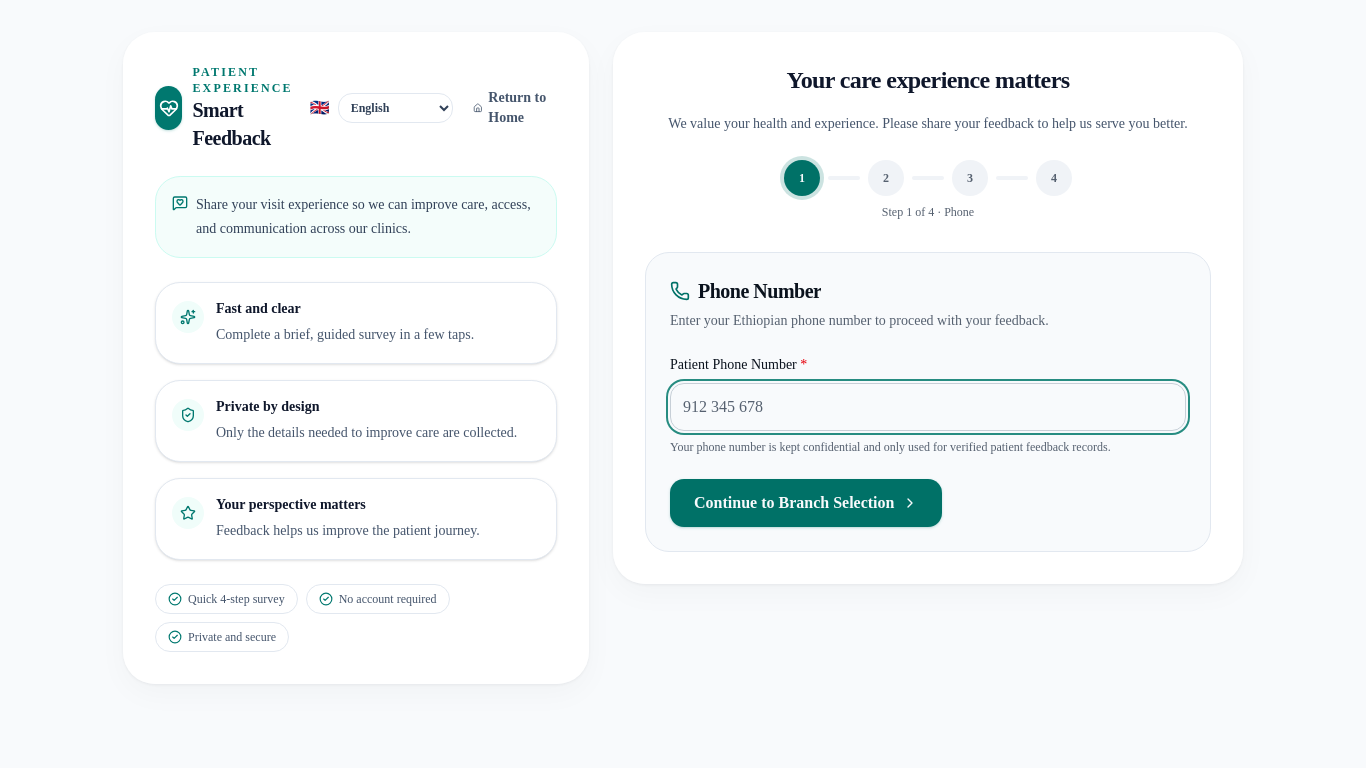
PatientFeedbackForm — loading, error and empty states › shows an error state with retry when branches fail to load
Type "0912345678" into the field labelled "Patient Phone Number *". click: (928, 407)
box: [670,383,1186,431]
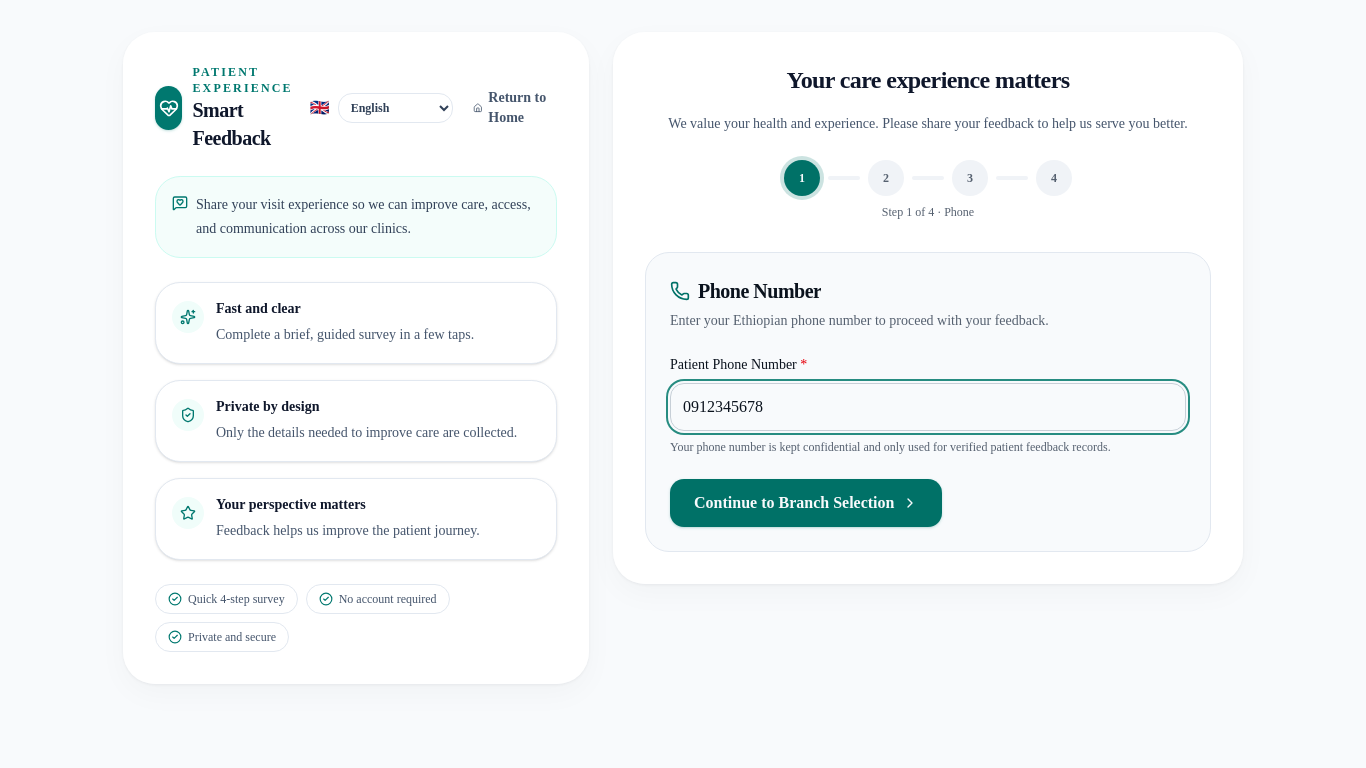
Click the button "Continue to Branch Selection". click: (806, 503)
box: [670,479,942,527]
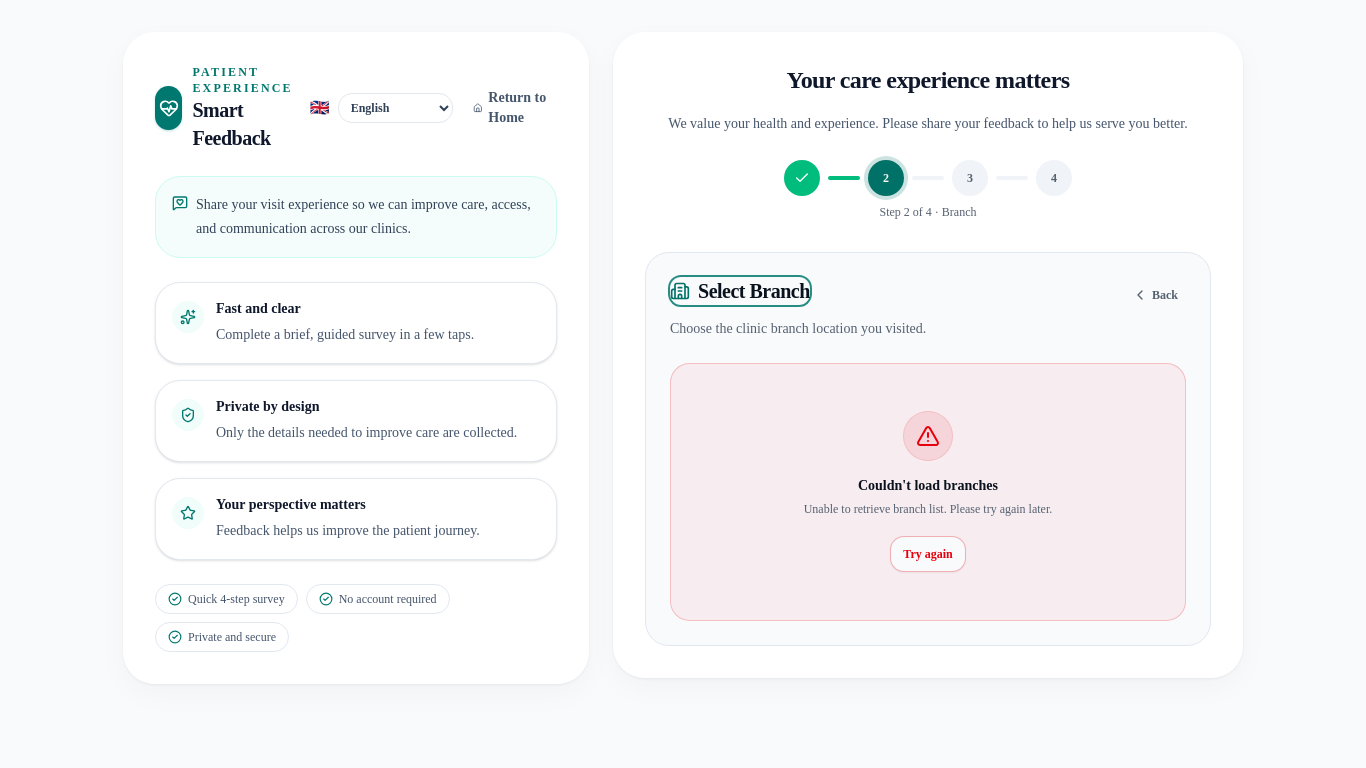
Expected: the heading "Select Branch" is shown, [670,277,810,305]
Expected: the message "Couldn't load branches" is shown, [670,363,1186,620]
Click the button "Try again". click: (928, 554)
box: [890,536,966,572]
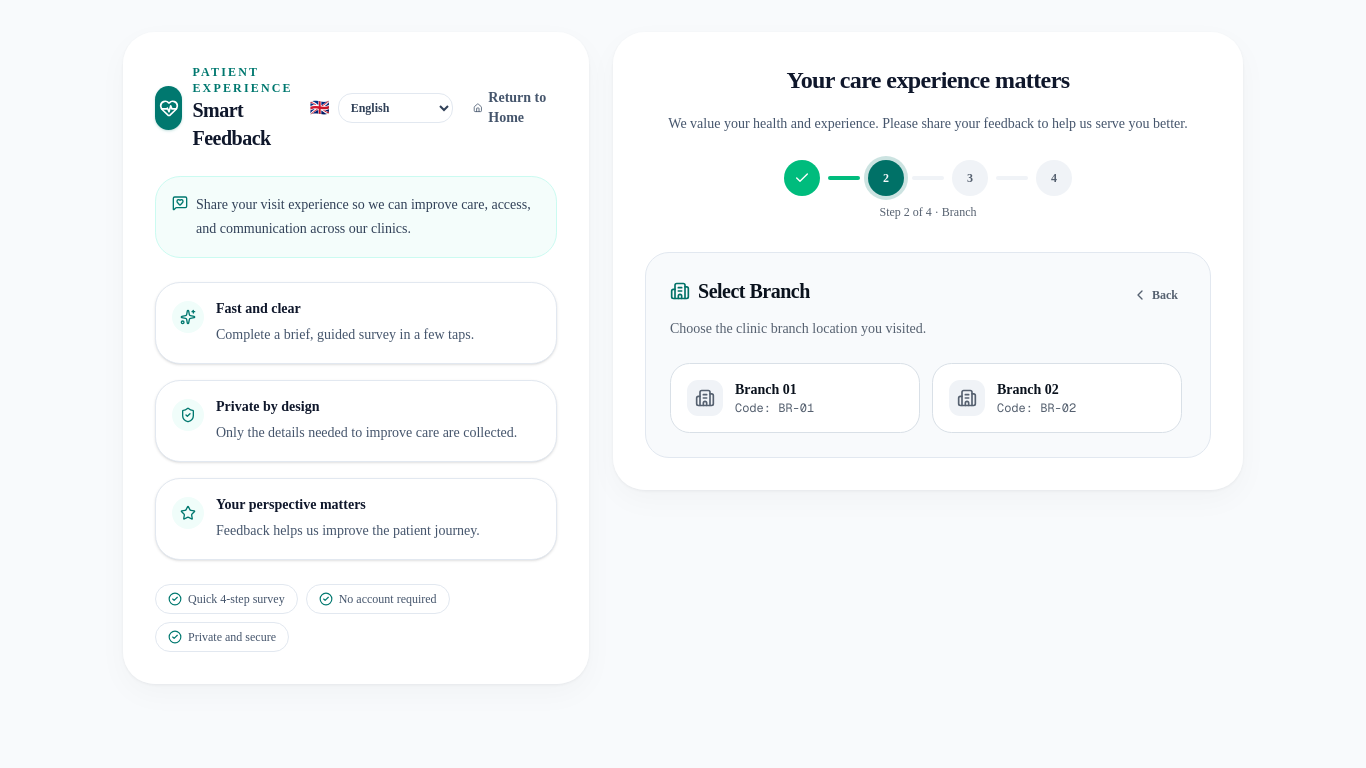
Expected: the radio button labelled "Branch 01 Code: BR-01" is shown, [670,363,920,433]
